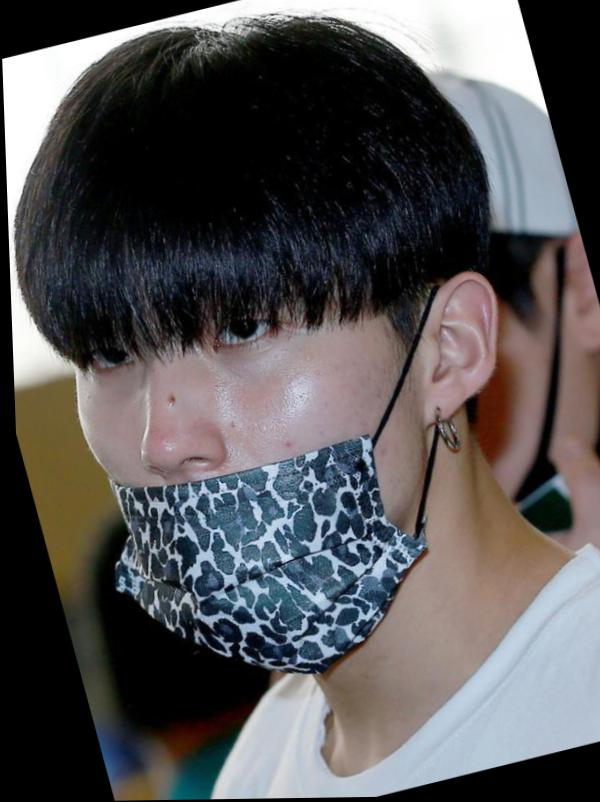WRONG: (55, 259, 449, 663)
